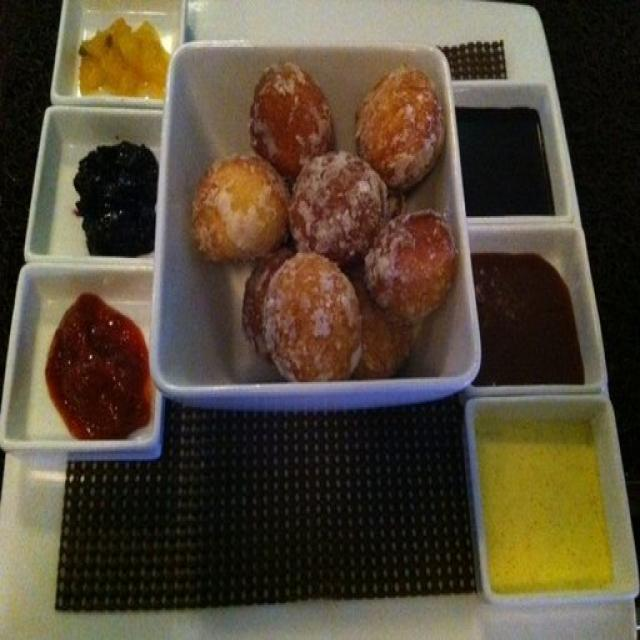Donuts: (182, 54, 470, 388)
